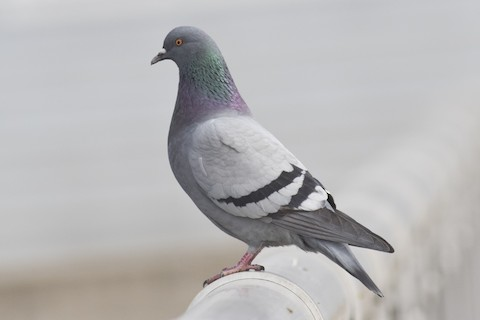pigeon: (136, 25, 398, 303)
